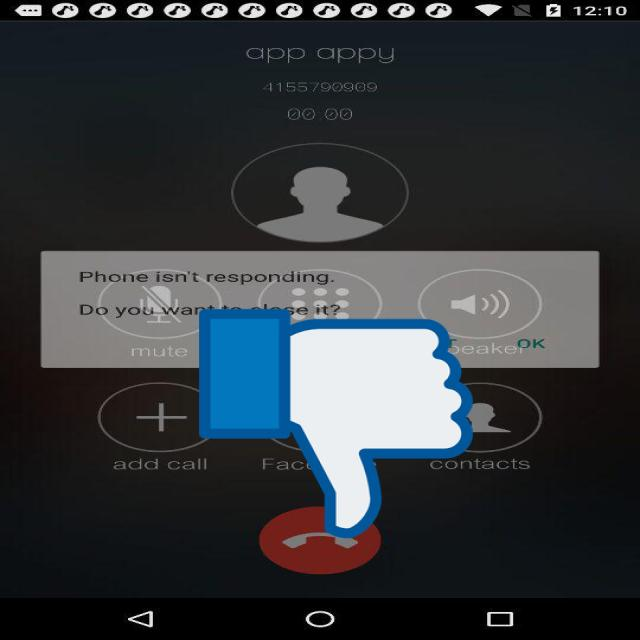obstruction: (199, 304, 473, 543)
